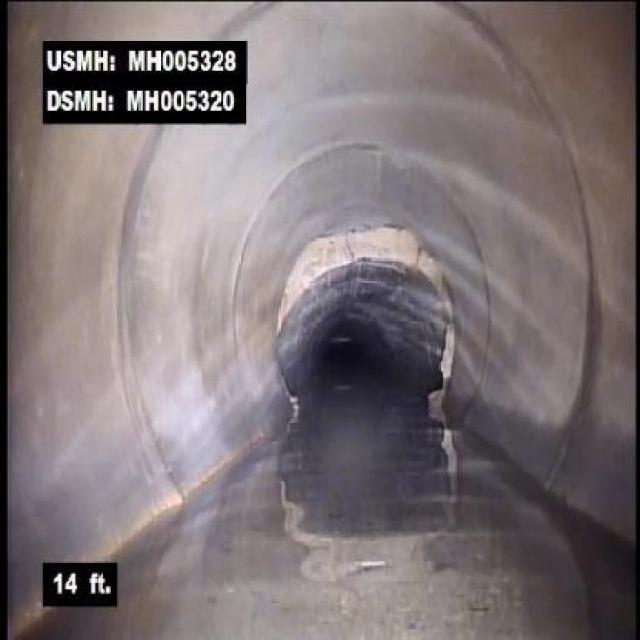Joint offset: (292, 225, 446, 272), (423, 272, 463, 348), (272, 274, 314, 337)
